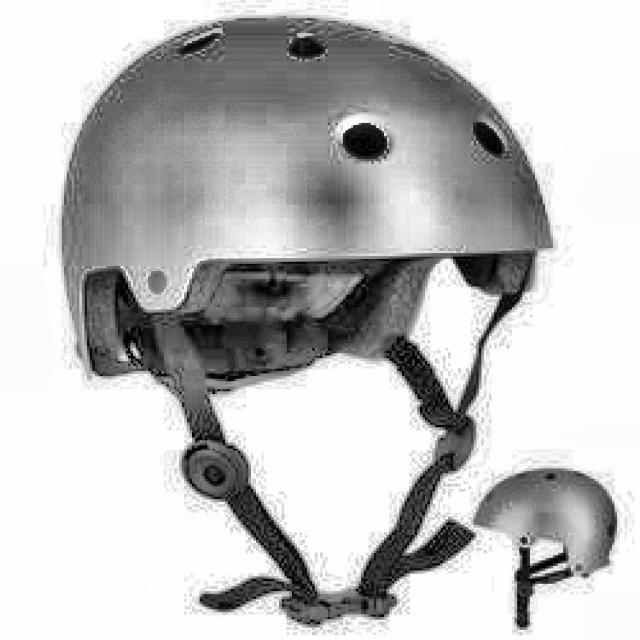Helmet: (63, 17, 557, 621)
